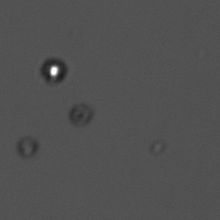Dead Cell: (68, 100, 95, 126), (15, 137, 39, 157)
Living Cell: (40, 55, 68, 84)
